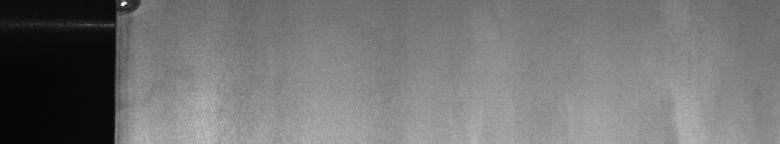hb: (124, 4, 145, 107)
